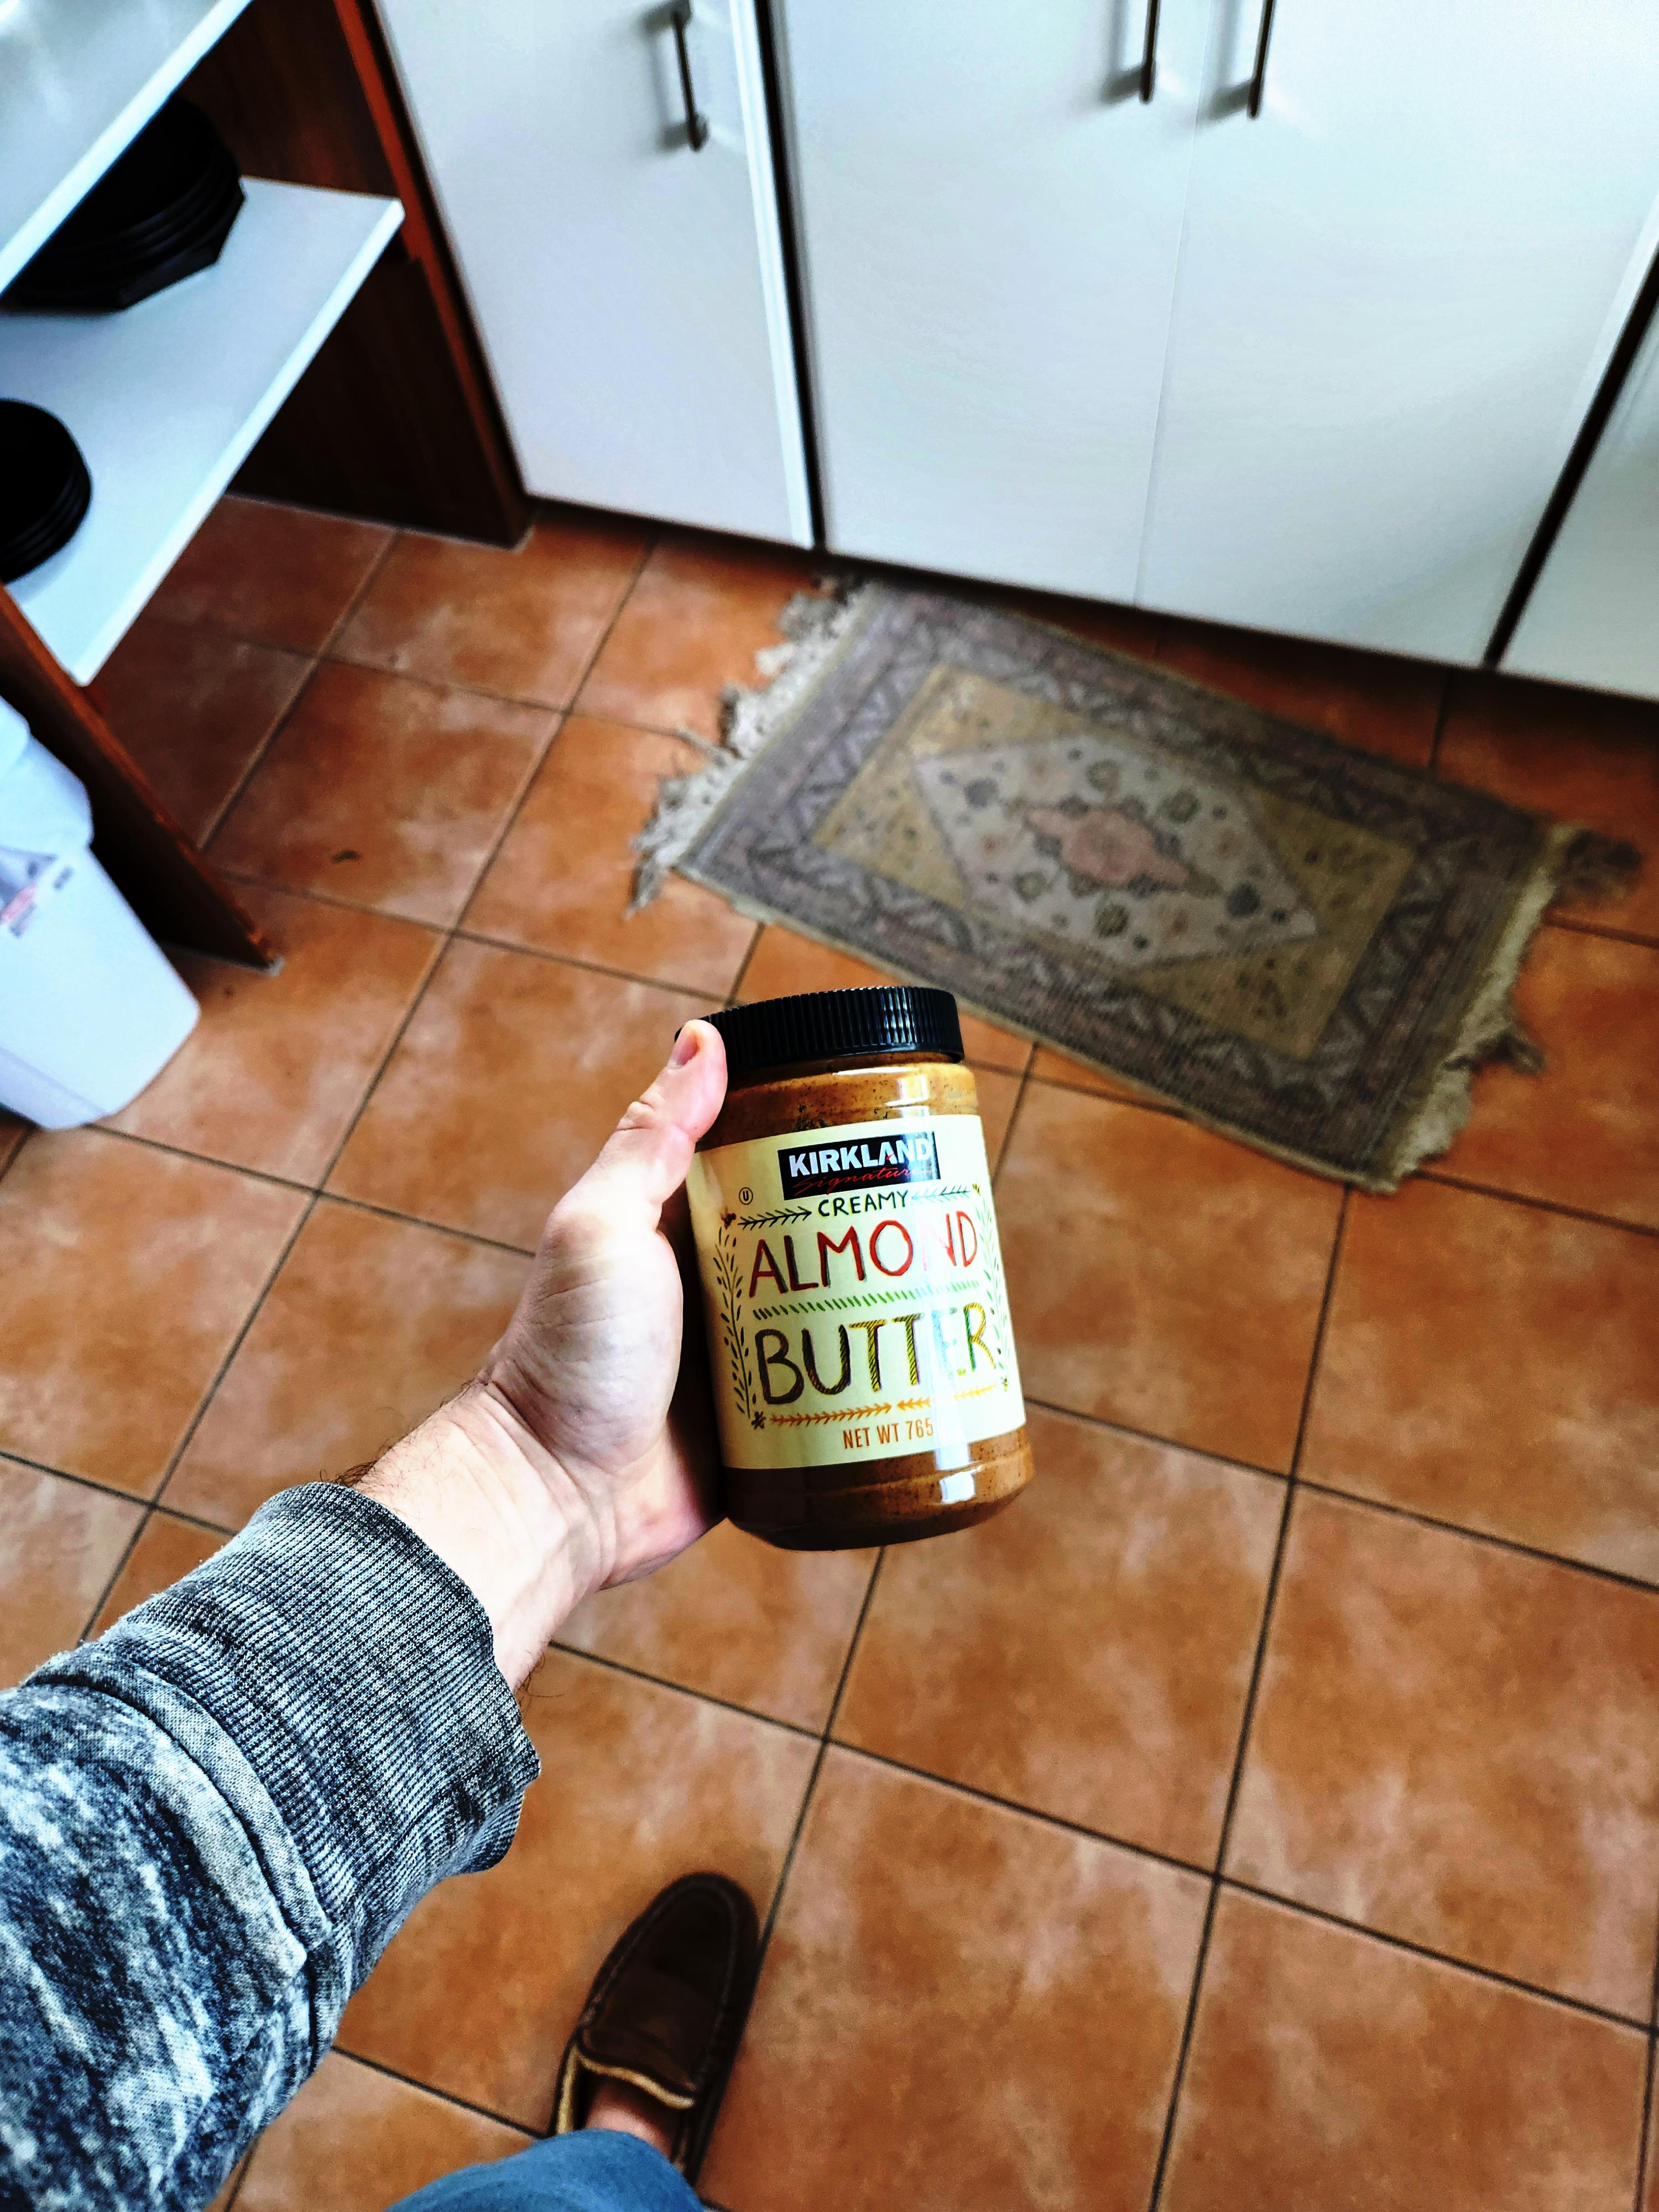almond butter: (509, 1310, 775, 2066)
